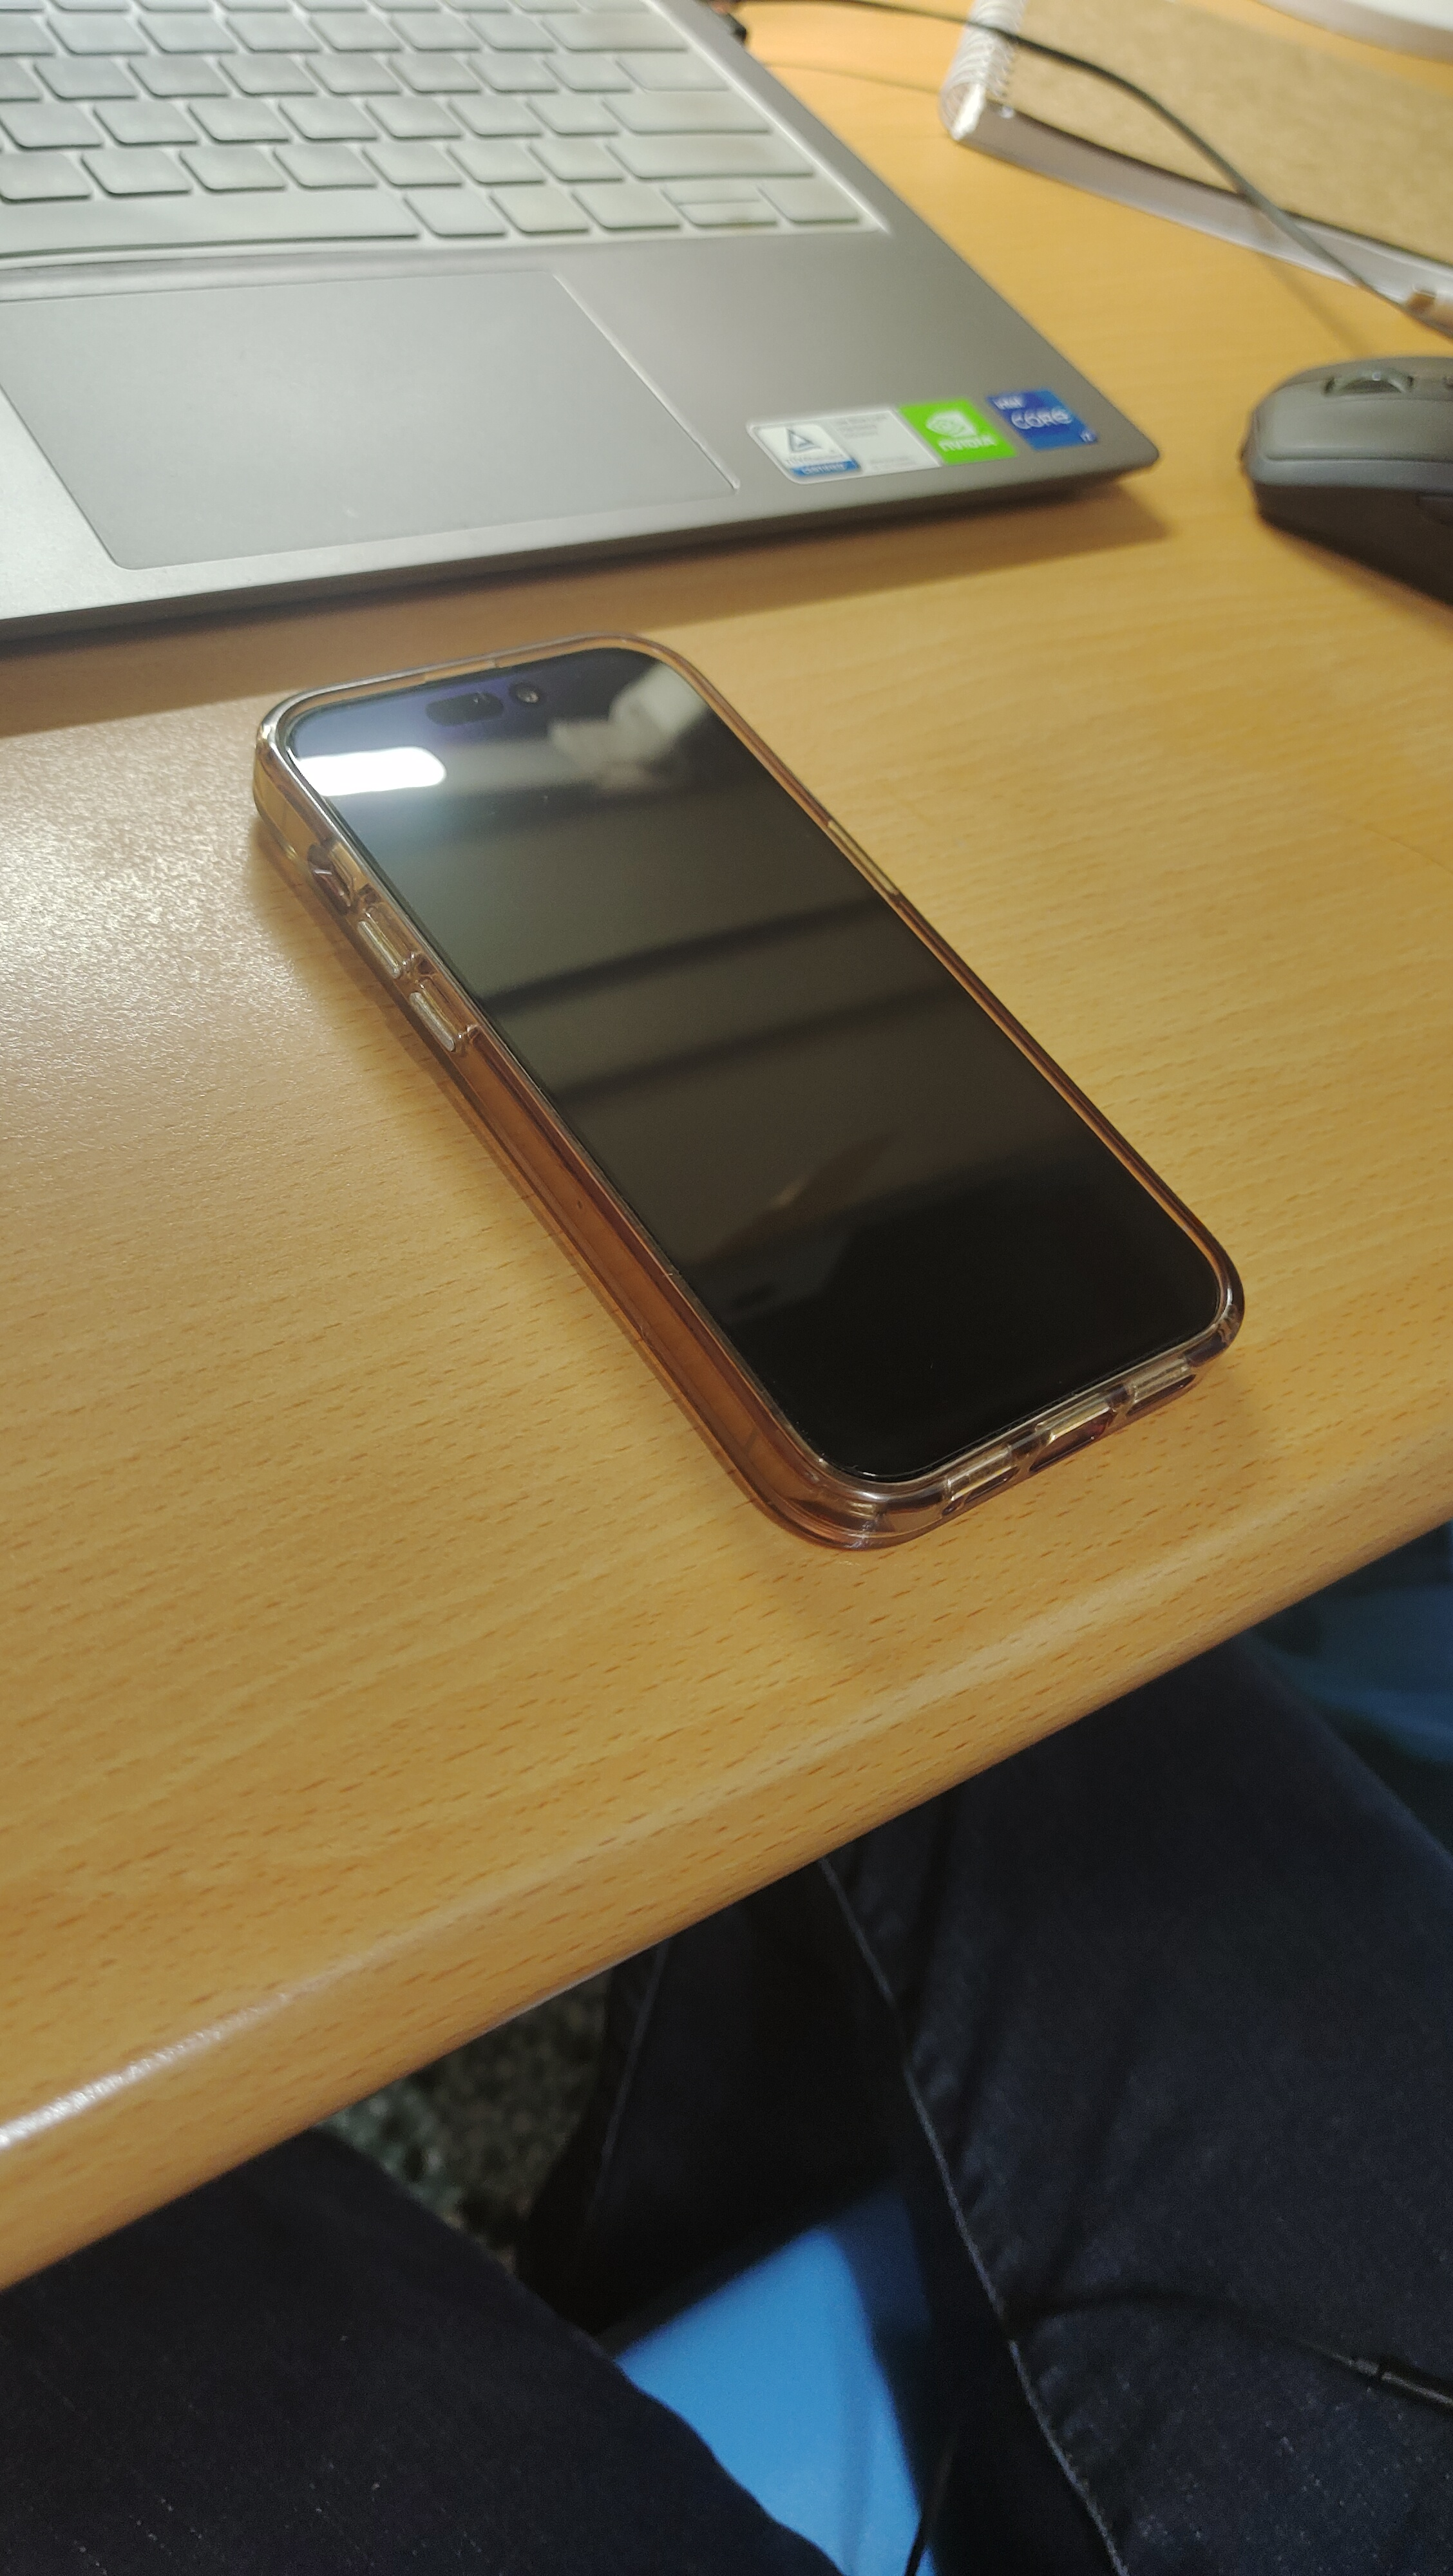iphone: (255, 642, 1249, 1555)
